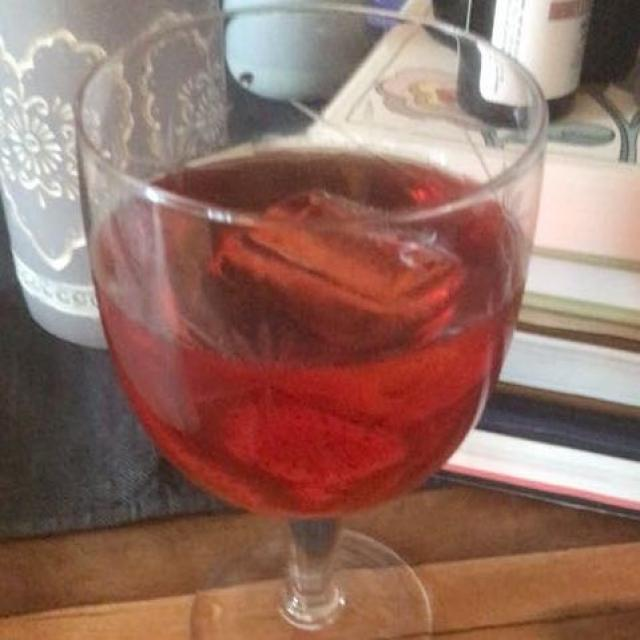cocktail: (98, 149, 514, 507)
